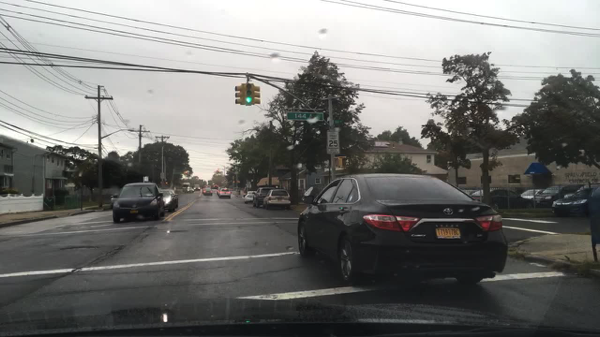car: (297, 173, 508, 287), (112, 182, 165, 223), (550, 184, 599, 214), (470, 187, 532, 208), (535, 184, 582, 206), (262, 188, 291, 211), (251, 187, 276, 207), (158, 189, 179, 212), (522, 188, 546, 199), (242, 191, 256, 203), (110, 193, 119, 208), (218, 188, 231, 198), (462, 188, 476, 196), (202, 189, 213, 196), (217, 186, 225, 195), (185, 187, 195, 194), (202, 184, 212, 189), (193, 185, 200, 191), (211, 184, 218, 190)
traffic light: (242, 84, 255, 106), (253, 84, 261, 107), (234, 84, 242, 106), (338, 156, 351, 167)
traffic sign: (286, 112, 323, 121), (327, 130, 340, 155), (144, 176, 149, 182)
truck: (182, 182, 190, 192)
